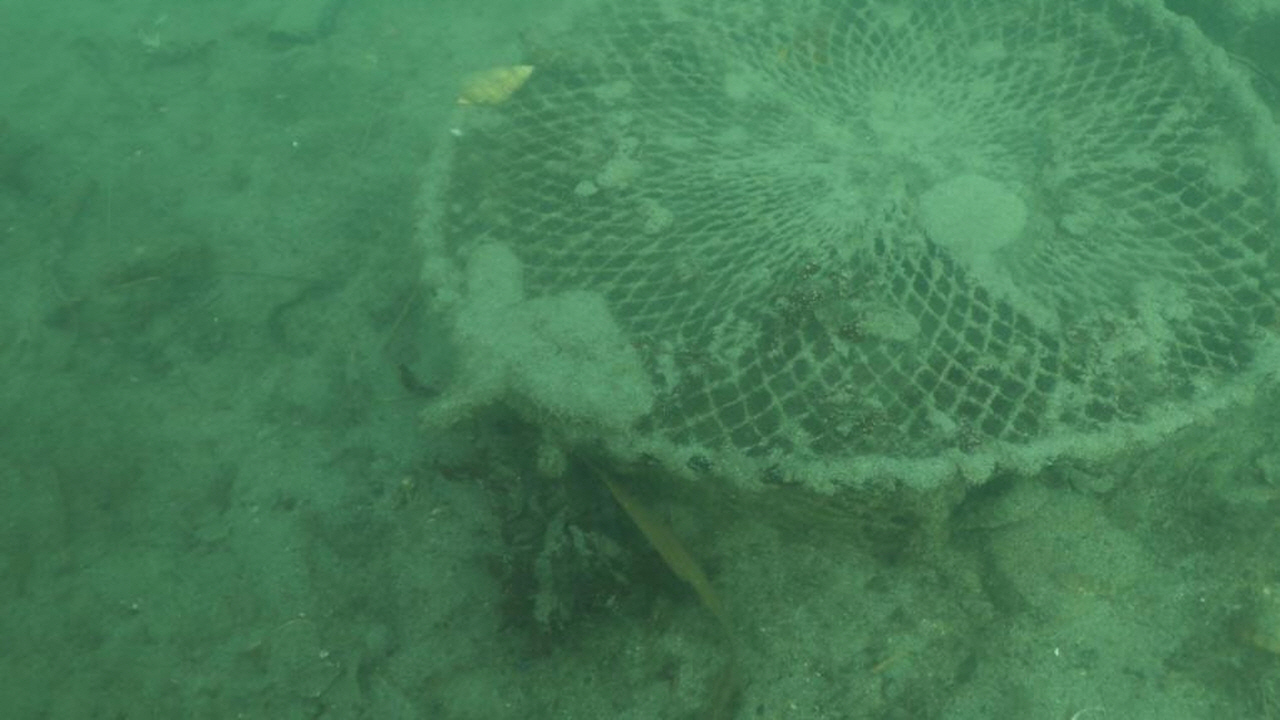circular fish trap: (419, 0, 1280, 484)
